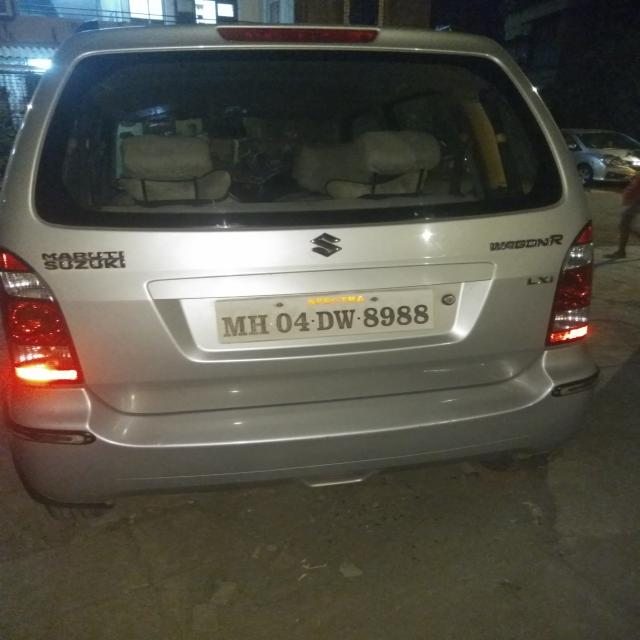Number-Plate: (219, 296, 437, 338)
